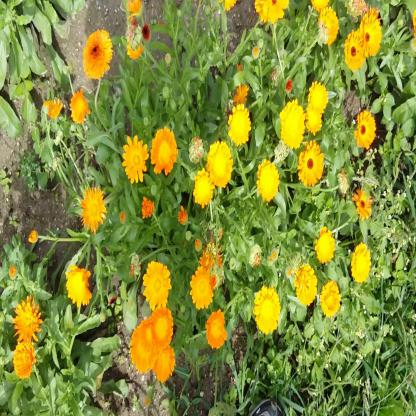marigold: (82, 30, 111, 78), (130, 320, 156, 373), (143, 265, 171, 310), (12, 300, 42, 342), (257, 284, 281, 333), (207, 140, 232, 187), (299, 140, 324, 186), (281, 100, 306, 146), (81, 187, 106, 231), (151, 126, 176, 170), (122, 135, 146, 180), (295, 263, 318, 306), (258, 159, 281, 202), (66, 265, 89, 305), (151, 310, 174, 348), (359, 14, 381, 53), (192, 270, 214, 308), (322, 281, 343, 319), (255, 0, 289, 23), (350, 245, 370, 284), (194, 168, 214, 206), (356, 109, 376, 147), (345, 32, 364, 72), (14, 340, 35, 376), (206, 312, 228, 346), (231, 105, 251, 142), (153, 348, 175, 381), (319, 8, 339, 44), (316, 230, 336, 265), (70, 88, 89, 122), (354, 187, 372, 220), (310, 81, 328, 112), (305, 106, 323, 133)
